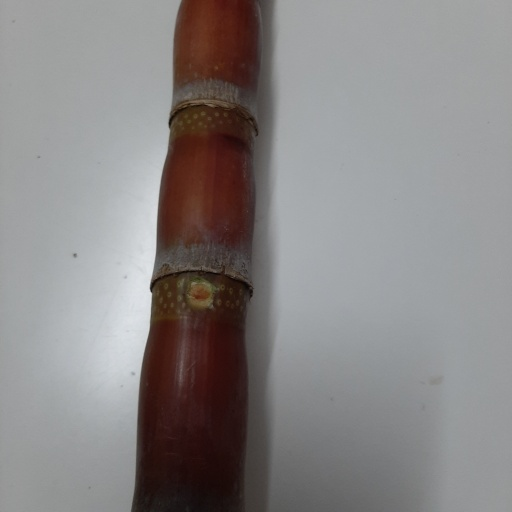Damage_Bud: (186, 281, 215, 311)
